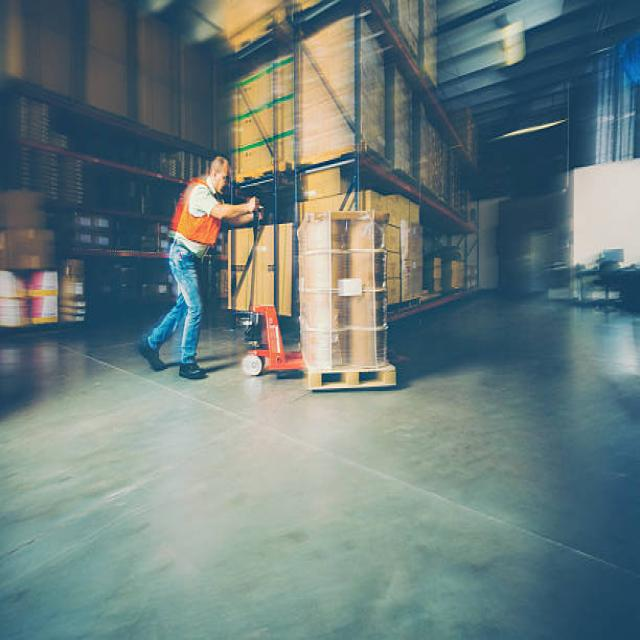Wooden-Pallets: (304, 366, 399, 400)
